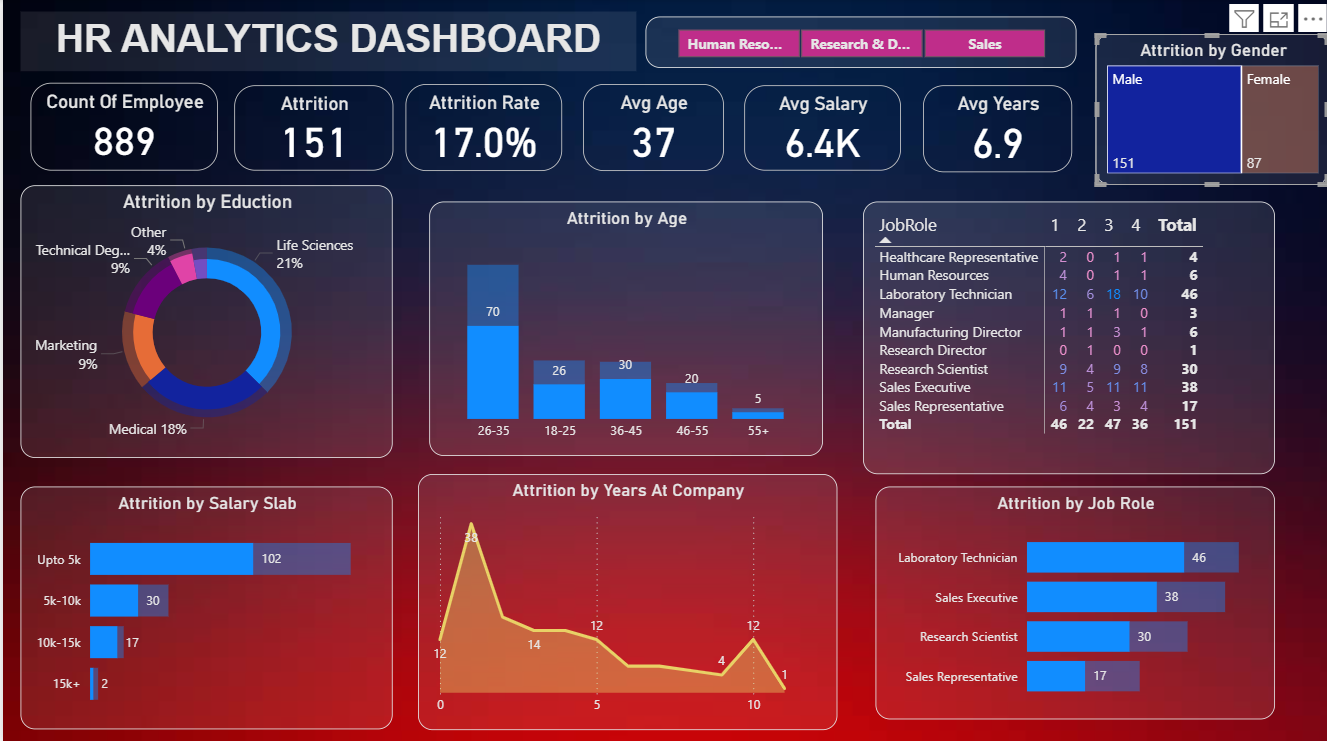

The dashboard page shown, as its layout file describes it:
{"tool":"powerbi","page":{"name":"Page 1","canvas":[1280,720],"ordinal":0},"visuals":[{"type":"card","title":"Count Of Employee","fields":{"Values":["CountNonNull(HR_Analytics.EmpID)"]},"box":[26.3,81.2,181.1,85.1],"z":0},{"type":"card","title":"Attrition","fields":{"Values":["Sum(HR_Analytics.AttritionCount)"]},"box":[223,83.3,153.7,82.3],"z":1000},{"type":"card","title":"Attrition Rate","fields":{"Values":["HR_Analytics.AttritionRate"]},"box":[389,81.9,150.9,83.7],"z":2000},{"type":"card","title":"Avg Age","fields":{"Values":["Avg(HR_Analytics.Age)"]},"box":[559.2,81.9,135.8,83.7],"z":3000},{"type":"card","title":"Avg Salary","fields":{"Values":["Avg(HR_Analytics.MonthlyIncome)"]},"box":[715.6,83.3,150.9,82.3],"z":4000},{"type":"card","title":"Avg Years","fields":{"Values":["Avg(HR_Analytics.YearsAtCompany)"]},"box":[888.5,83.3,144.1,83.7],"z":5000},{"type":"donutChart","title":"Attrition by Eduction","fields":{"Category":["HR_Analytics.EducationField"],"Y":["Sum(HR_Analytics.AttritionCount)"]},"box":[16.9,179.8,359.5,263],"z":6000},{"type":"columnChart","title":"Attrition by Age","fields":{"Y":["Sum(HR_Analytics.AttritionCount)"],"Category":["HR_Analytics.AgeGroup"]},"box":[411.7,194.9,380.1,245.6],"z":7000},{"type":"pivotTable","fields":{"Rows":["HR_Analytics.JobRole"],"Columns":["HR_Analytics.JobSatisfaction"],"Values":["Sum(HR_Analytics.AttritionCount)"]},"box":[830.2,194.9,397.9,263.5],"z":8000},{"type":"barChart","title":"Attrition by Salary Slab","fields":{"Category":["HR_Analytics.SalarySlab"],"Y":["Sum(HR_Analytics.AttritionCount)"]},"box":[16.9,470.5,359.5,234],"z":9000},{"type":"barChart","title":"Attrition by Job Role","fields":{"Category":["HR_Analytics.JobRole"],"Y":["Sum(HR_Analytics.AttritionCount)"]},"box":[842.5,470.7,385.6,225],"z":10000},{"type":"areaChart","title":"Attrition by Years At Company","fields":{"Category":["HR_Analytics.YearsAtCompany"],"Y":["Sum(HR_Analytics.AttritionCount)"]},"box":[400.7,458.3,404.8,247],"z":11000},{"type":"treemap","title":"Attrition by Gender","fields":{"Group":["HR_Analytics.Gender"],"Values":["Sum(HR_Analytics.AttritionCount)"]},"box":[1053.9,34.3,226.4,145.5],"z":12000},{"type":"slicer","fields":{"Values":["HR_Analytics.Department"]},"box":[620.2,16.5,415.8,49.4],"z":13000},{"type":"textbox","box":[16.5,12.3,594.2,57.6],"z":14000}]}

Visuals, with their boxes in screenshot pixels (x1, y1, x2, y2), scaled from the page's 1280x720 canvas onto the 1327x741 screenshot:
"Count Of Employee" card: {"left": 27, "top": 84, "right": 215, "bottom": 171}
"Attrition" card: {"left": 231, "top": 86, "right": 391, "bottom": 170}
"Attrition Rate" card: {"left": 403, "top": 84, "right": 560, "bottom": 170}
"Avg Age" card: {"left": 580, "top": 84, "right": 721, "bottom": 170}
"Avg Salary" card: {"left": 742, "top": 86, "right": 898, "bottom": 170}
"Avg Years" card: {"left": 921, "top": 86, "right": 1071, "bottom": 172}
"Attrition by Eduction" donutChart: {"left": 18, "top": 185, "right": 390, "bottom": 456}
"Attrition by Age" columnChart: {"left": 427, "top": 201, "right": 821, "bottom": 453}
pivotTable - HR_Analytics.JobRole x HR_Analytics.JobSatisfaction: {"left": 861, "top": 201, "right": 1273, "bottom": 472}
"Attrition by Salary Slab" barChart: {"left": 18, "top": 484, "right": 390, "bottom": 725}
"Attrition by Job Role" barChart: {"left": 873, "top": 484, "right": 1273, "bottom": 716}
"Attrition by Years At Company" areaChart: {"left": 415, "top": 472, "right": 835, "bottom": 726}
"Attrition by Gender" treemap: {"left": 1093, "top": 35, "right": 1326, "bottom": 185}
slicer - HR_Analytics.Department: {"left": 643, "top": 17, "right": 1074, "bottom": 68}
textbox: {"left": 17, "top": 13, "right": 633, "bottom": 72}
